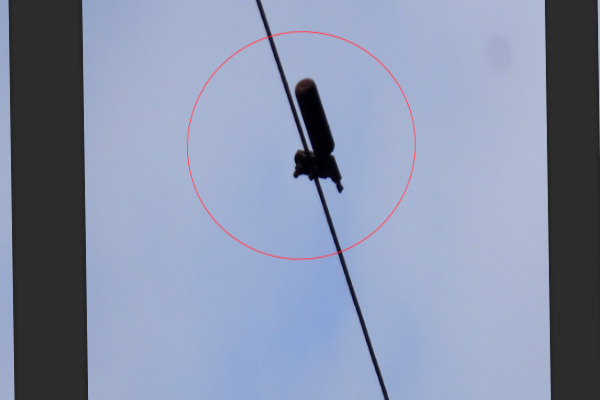damper_defect: (279, 76, 345, 197)
